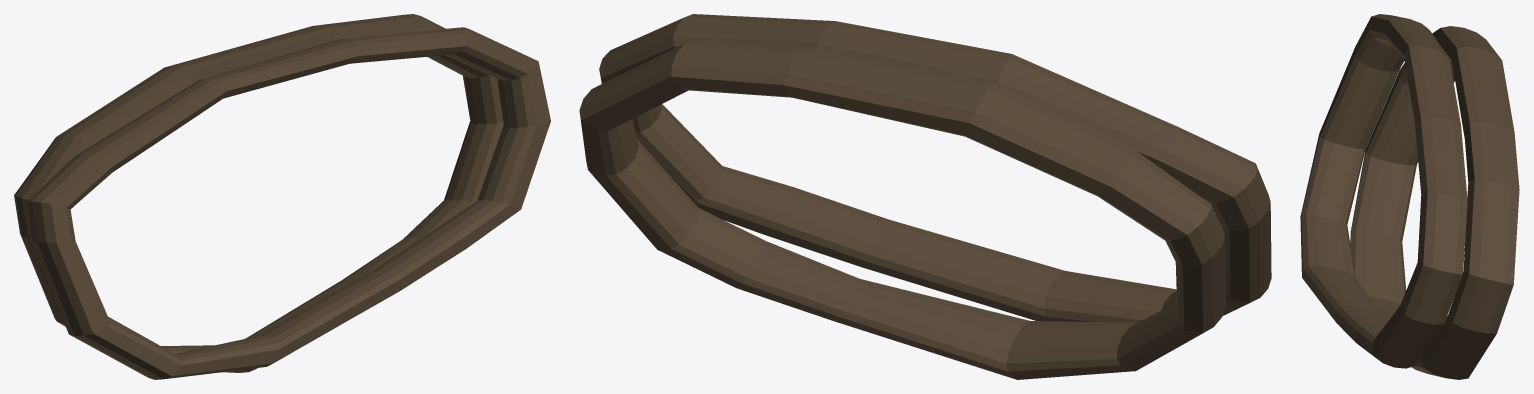
The model's file is JoleneRope.fbx.
3 views of the same model, side by side, from view 1: azimuth 30°, elevation 25°; view 2: azimuth 150°, elevation 25°; view 3: azimuth 270°, elevation 25° (orthographic). The views are drawn at different scales.
Visible parts, largest first — view 1: Rope; view 2: Rope; view 3: Rope.
Part boxes in pixels (x1,y1,x2,y2): Rope: [14, 14, 550, 379]; Rope: [579, 14, 1271, 379]; Rope: [1300, 14, 1519, 379].
Size of the model in its own units: 19.55 by 9.83 by 7.18.
